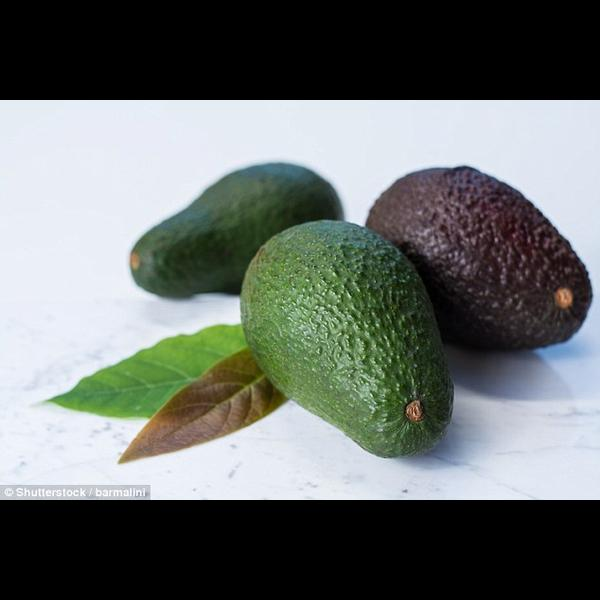ripe: (364, 166, 593, 353)
unripe: (240, 220, 455, 459), (128, 161, 344, 299)
